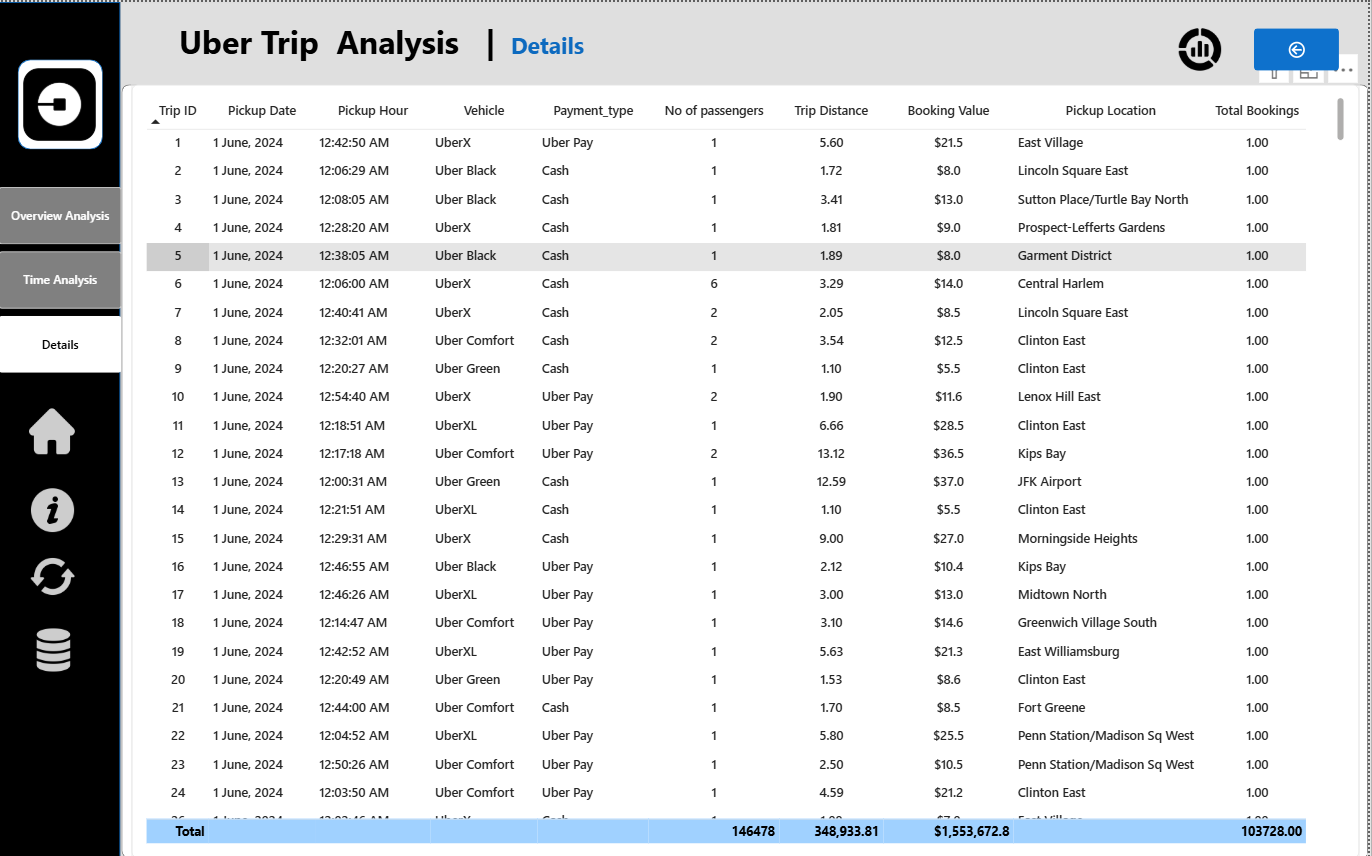

The page's visual inventory and layout, read from the dashboard file:
{"tool":"powerbi","page":{"name":"Details","canvas":[1600,1000],"ordinal":2},"visuals":[{"type":"shape","box":[0,0,141.6,1000.3],"z":0},{"type":"textbox","box":[210.3,20.4,736,57],"z":1000},{"type":"shape","box":[143.1,96.4,1457.4,903.9],"z":2000},{"type":"tableEx","fields":{"Values":["Trip Details.Trip ID","Trip Details.Pickup Date","Trip Details.Pickup Hour (HH MM SS)","Trip Details.Vehicle","Trip Details.Payment_type","Sum(Trip Details.passenger_count)","Trip Details.Total Trip Distance Measure","Trip Details.Total Booking Value","Location Table.Location","Trip Details.Total Bookings"]},"box":[154.8,96.4,1434,903.9],"z":3000},{"type":"actionButton","box":[1466.1,30.7,99.3,49.6],"z":4000},{"type":"image","box":[1365.4,30.7,74.5,49.7],"z":5000},{"type":"pageNavigator","box":[0,216.1,143.1,217.6],"z":6000},{"type":"shape","box":[21.9,67.2,99.3,105.1],"z":7000},{"type":"image","box":[21.9,77.4,97.8,84.7],"z":8000},{"type":"image","box":[35,473.1,53.8,56.7],"z":9000},{"type":"image","box":[27.7,568.1,69.8,50.9],"z":10000},{"type":"image","box":[21.9,645.4,81.4,50.9],"z":11000},{"type":"image","box":[38,721.4,50.9,71.2],"z":12000}]}

Visuals, with their boxes on the page's 1600x1000 design canvas (x1, y1, x2, y2). These are canvas units, not pixel positions in the 1372x856 screenshot, which may show the page scaled, cropped or inside an application window:
shape: (0,0,142,1000)
textbox: (210,20,946,77)
shape: (143,96,1600,1000)
tableEx - Trip Details.Trip ID x Trip Details.Pickup Date: (155,96,1589,1000)
actionButton: (1466,31,1565,80)
image: (1365,31,1440,80)
pageNavigator: (0,216,143,434)
shape: (22,67,121,172)
image: (22,77,120,162)
image: (35,473,89,530)
image: (28,568,98,619)
image: (22,645,103,696)
image: (38,721,89,793)
